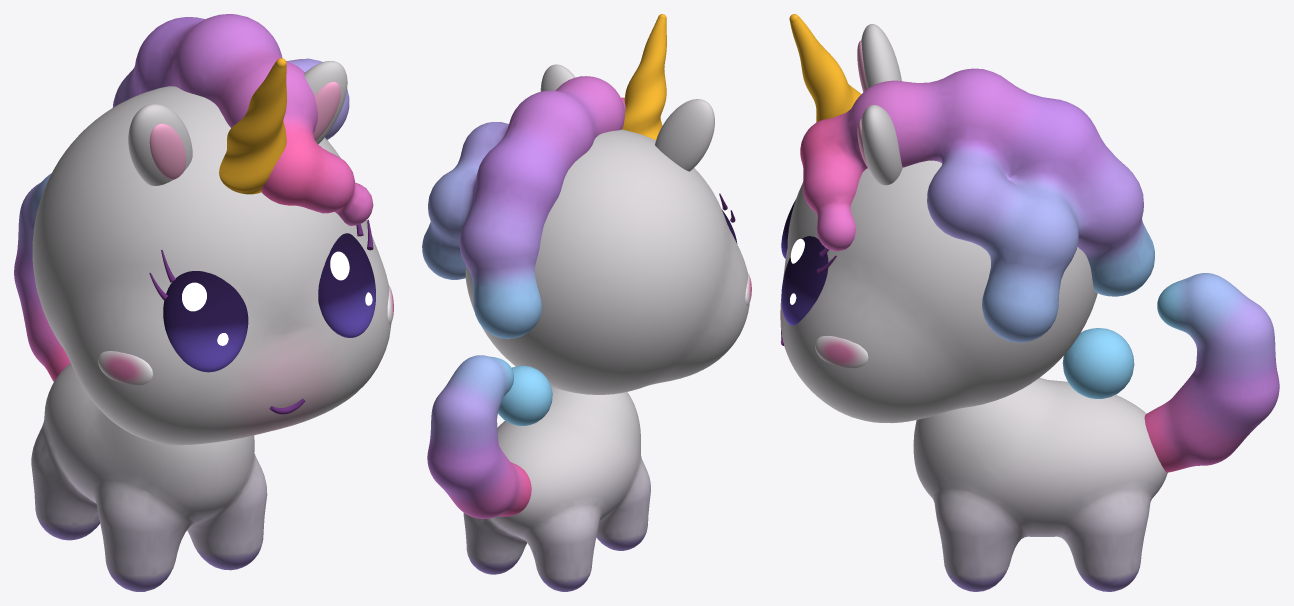
The model's file is A_unicorn.glb.
3 views of the same model, side by side, from view 1: azimuth 30°, elevation 25°; view 2: azimuth 150°, elevation 25°; view 3: azimuth 270°, elevation 25° (orthographic). The views are drawn at different scales.
Parts seen in each view (by area): view 1: Head, Body, Mane, Eye.R, Horn, Eye.L, Tail, Ear.-1, EarInner.-1, Blush.-1, Ear.1, EarInner.1 (+1 smaller); view 2: Head, Mane, Body, Tail, Horn, Ear.-1, Ear.1; view 3: Mane, Head, Body, Tail, Horn, Eye.L, Ear.1, Ear.-1, Blush.1.
Part boxes in pixels (<box>): Head: <box>32,86,391,445</box>; Body: <box>31,363,267,591</box>; Mane: <box>112,14,373,225</box>; Eye.R: <box>163,271,248,372</box>; Horn: <box>219,58,286,194</box>; Eye.L: <box>318,233,375,337</box>; Tail: <box>14,173,70,381</box>; Ear.-1: <box>128,104,192,185</box>; EarInner.-1: <box>149,123,186,179</box>; Blush.-1: <box>98,351,152,385</box>; Ear.1: <box>304,61,347,144</box>; EarInner.1: <box>313,81,340,140</box>; Head: <box>465,129,749,394</box>; Mane: <box>422,76,625,425</box>; Body: <box>463,386,650,591</box>; Tail: <box>427,355,531,518</box>; Horn: <box>622,14,666,140</box>; Ear.-1: <box>655,99,714,171</box>; Ear.1: <box>540,64,575,91</box>; Mane: <box>800,68,1154,398</box>; Head: <box>780,160,1097,423</box>; Body: <box>913,377,1167,591</box>; Tail: <box>1144,273,1279,472</box>; Horn: <box>789,14,861,122</box>; Eye.L: <box>781,236,828,325</box>; Ear.1: <box>861,105,902,185</box>; Ear.-1: <box>861,24,901,88</box>; Blush.1: <box>815,335,868,368</box>.
Size of the model in its own units: 1.37 by 2.4 by 1.96.
